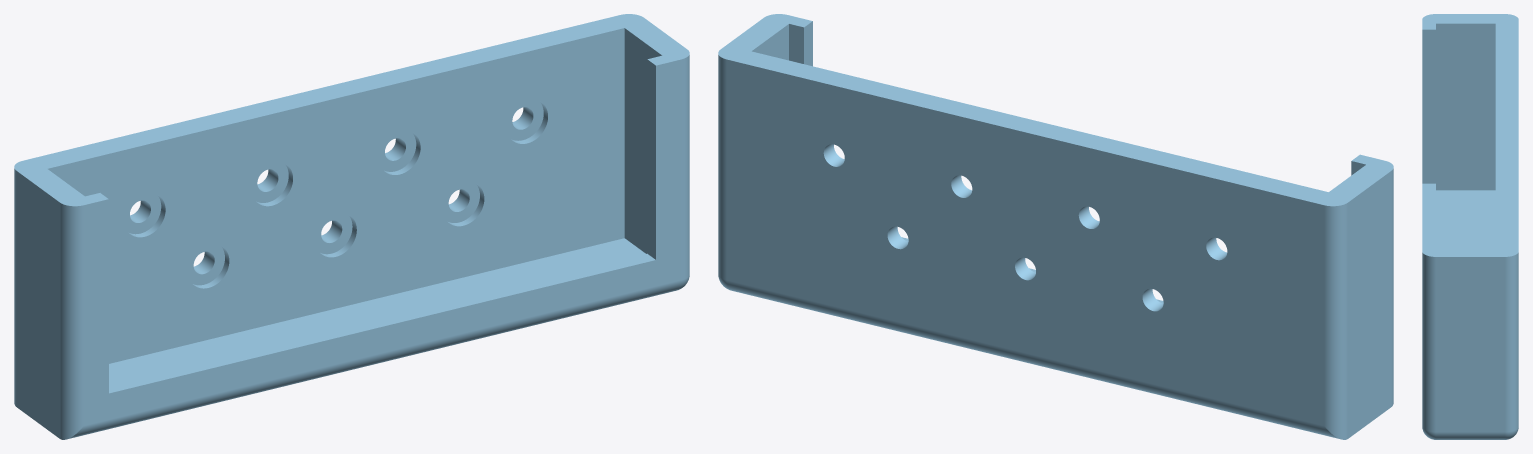
File: License Plate Holder.dae
3 views of the same model, side by side, from view 1: azimuth 30°, elevation 25°; view 2: azimuth 150°, elevation 25°; view 3: azimuth 270°, elevation 25° (orthographic). The views are drawn at different scales.
Parts seen in each view (by area): view 1: ID2; view 2: ID2; view 3: ID2.
Part boxes in pixels (box(x1,y1,x2,y2)): ID2: box(14, 14, 689, 439); ID2: box(718, 14, 1393, 439); ID2: box(1422, 14, 1518, 439).
Size of the model in its own units: 0.125 by 0.021 by 0.045.
